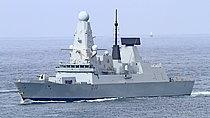MIL_Ship: (14, 10, 195, 101)
